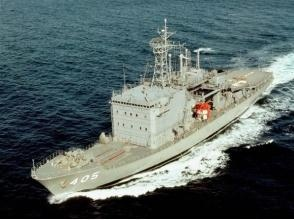warship: (30, 38, 281, 191)
